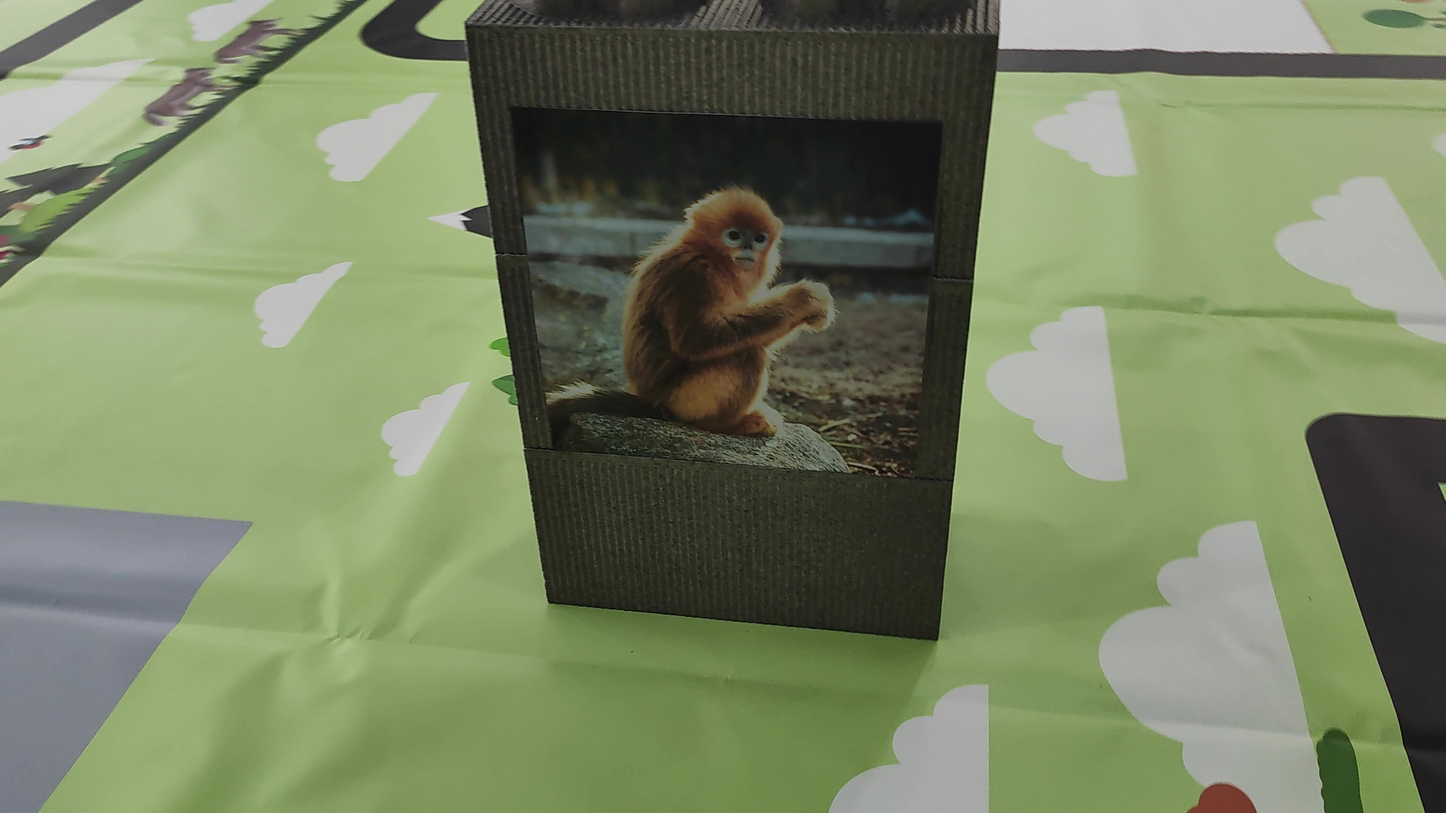monkey: (602, 157, 844, 448)
